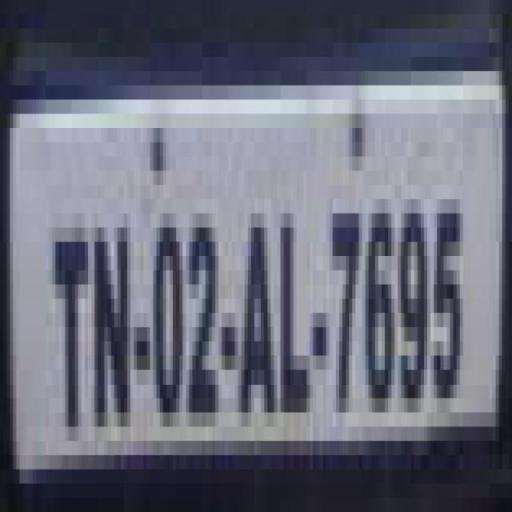number plate: (2, 28, 484, 497)
